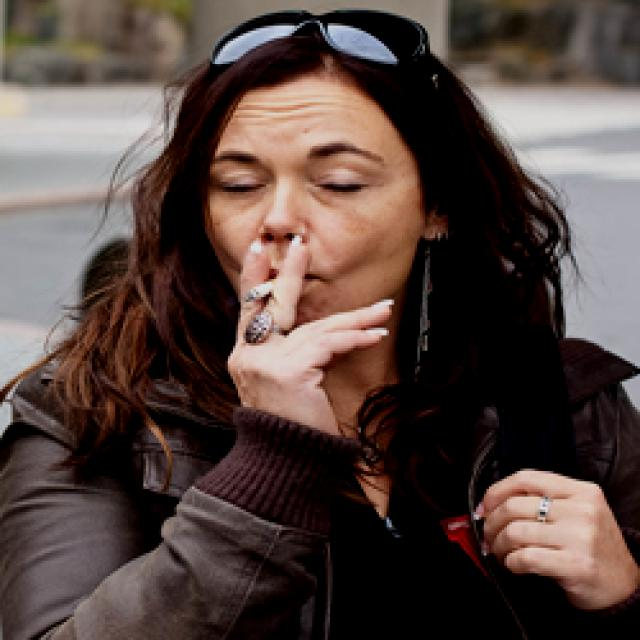Smooking: (232, 268, 297, 306)
